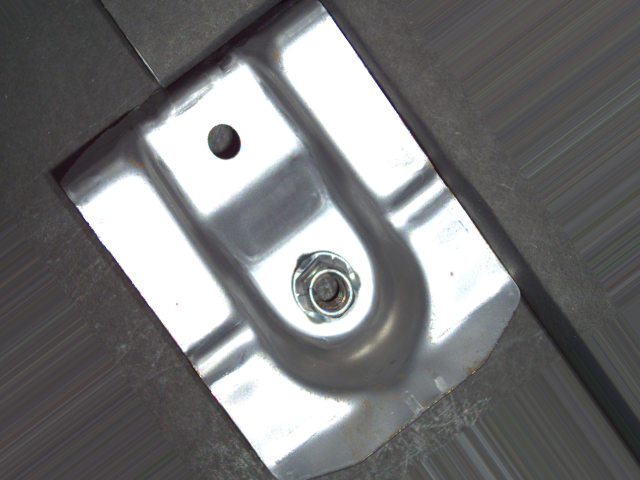good: (287, 248, 365, 328)
